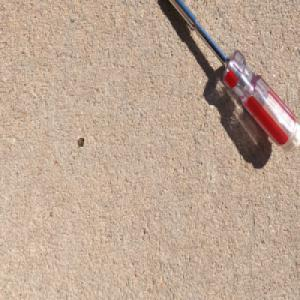Screwdriver: (165, 0, 300, 156)
